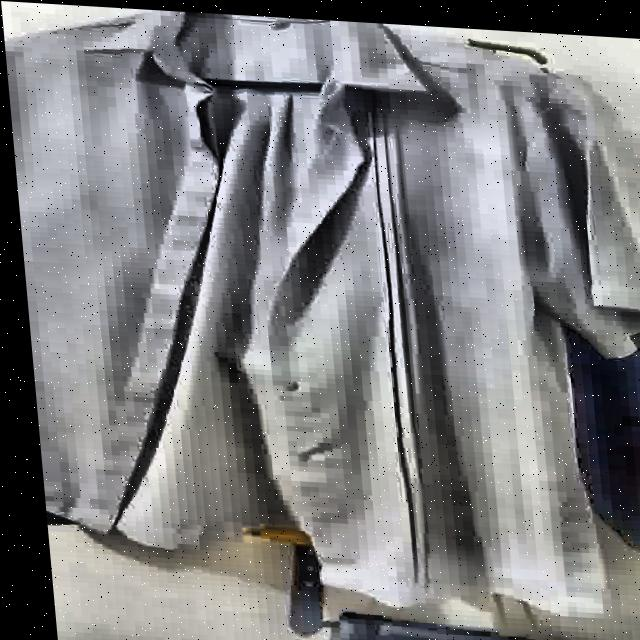clothes: (9, 1, 640, 640)
